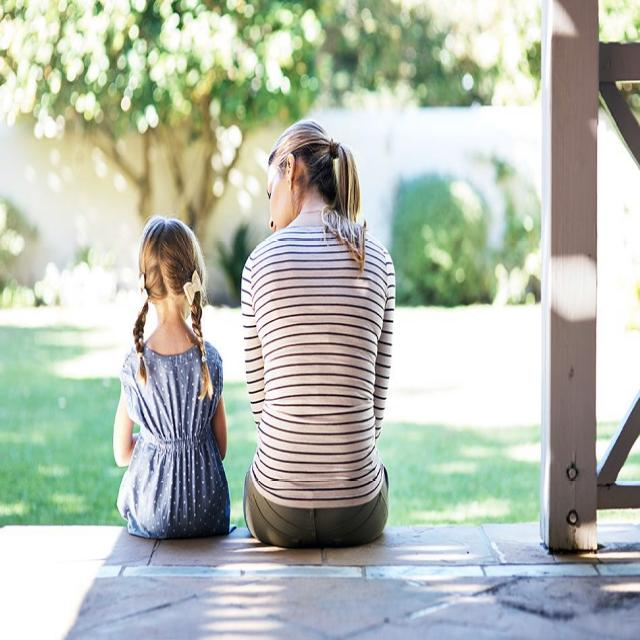adult: (241, 119, 395, 548)
child: (111, 212, 231, 538)
